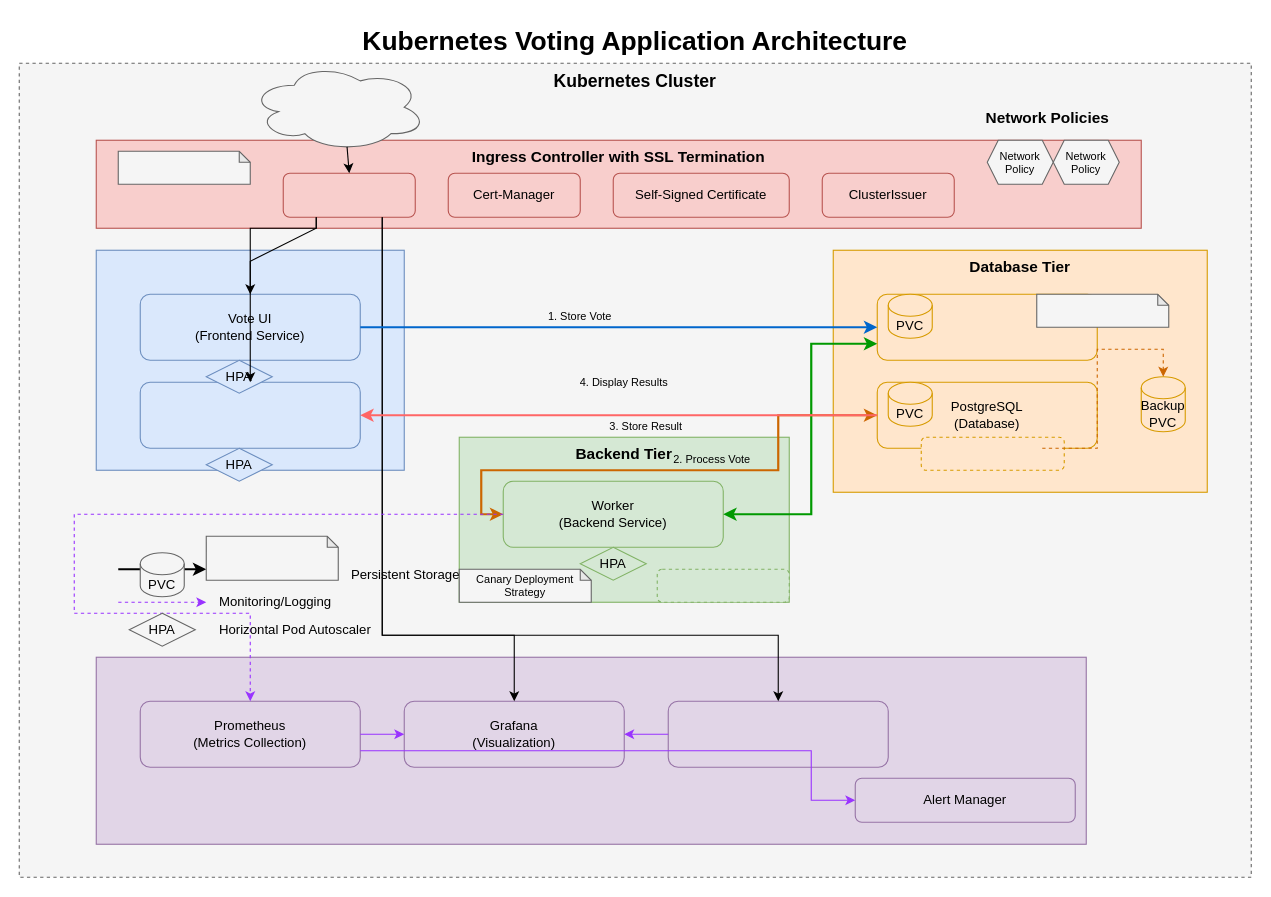
This 1271x897 diagram has some shape labels left out. Each missing label, with the box of its shape:
Auto-renewing SSL Certificates: (117, 150, 250, 184)
Auto-scaling based on CPU/Memory: (205, 535, 338, 580)
Automated Backup CronJob: (1036, 293, 1169, 327)
Database Backup (CronJob): (920, 436, 1064, 470)
External Traffic: (249, 62, 426, 151)
Frontend Tier: (95, 249, 404, 470)
Ingress: (282, 172, 415, 217)
Loki (Log Aggregation): (667, 700, 888, 767)
Monitoring & Observability: (95, 656, 1086, 844)
Redis (In-Memory Cache): (876, 293, 1097, 360)
Result UI (Frontend Service): (139, 381, 360, 448)
Worker Canary: (656, 568, 789, 602)
